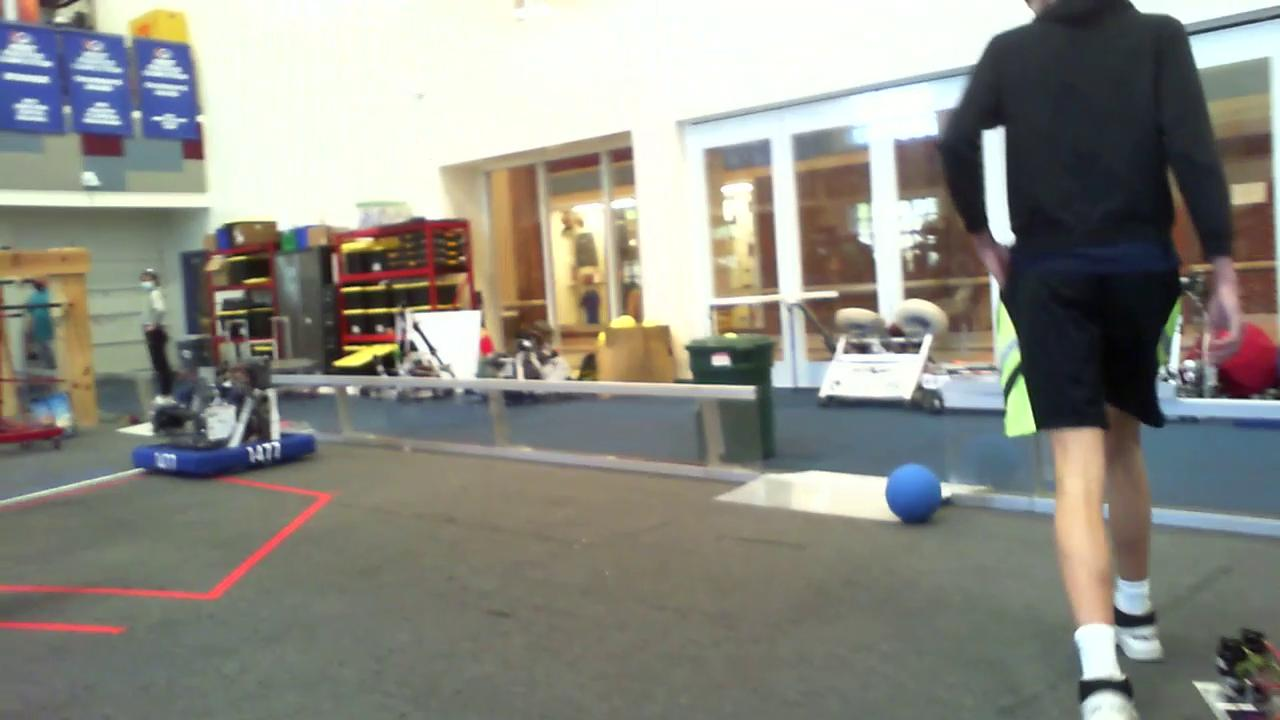robot: (131, 356, 316, 478)
